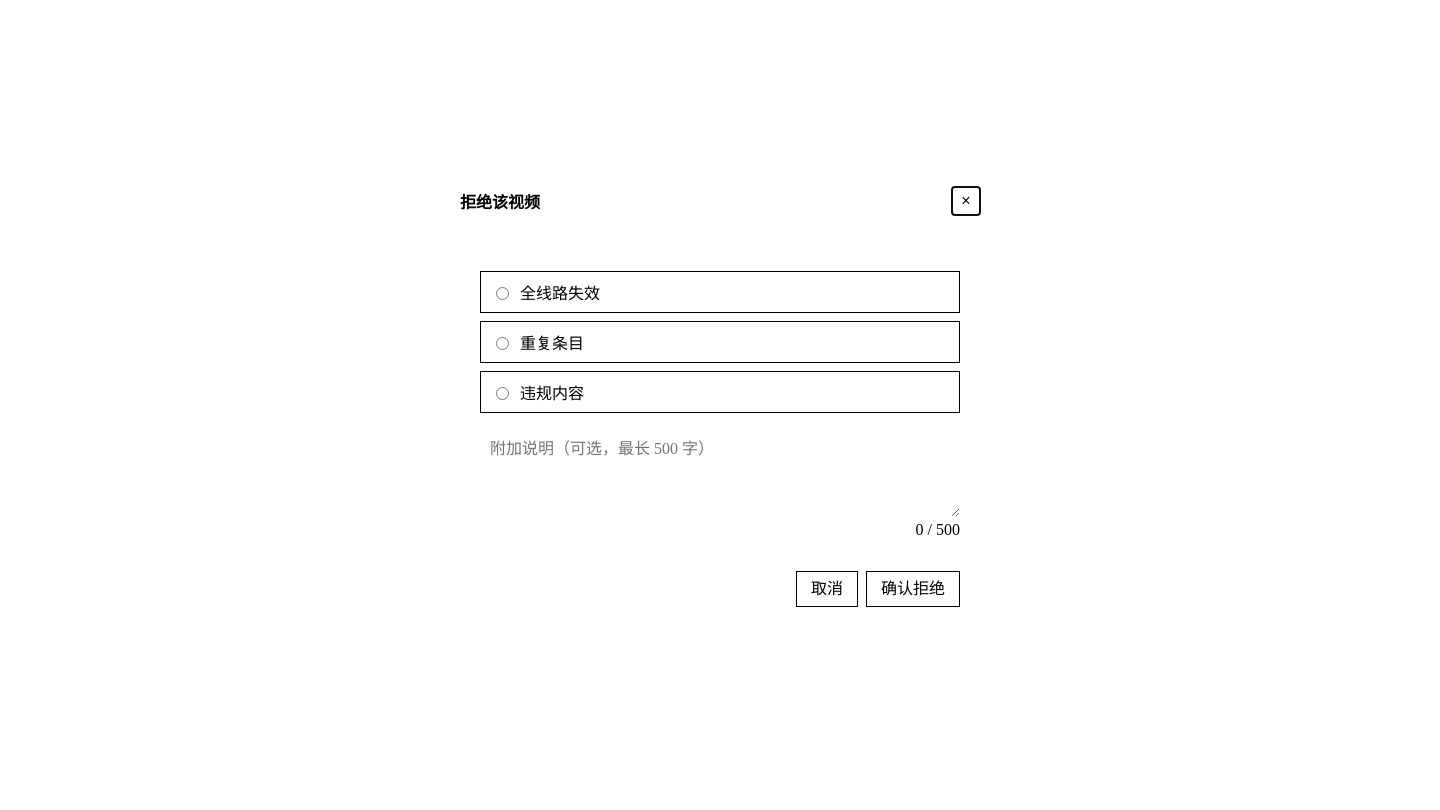
RejectModal — reason textarea › 字数计数显示 N/Max + 输入更新
Type "abc" into the text box with placeholder "附加说明（可选，最长 500 字）" at (720, 473), box [480,429,960,517]
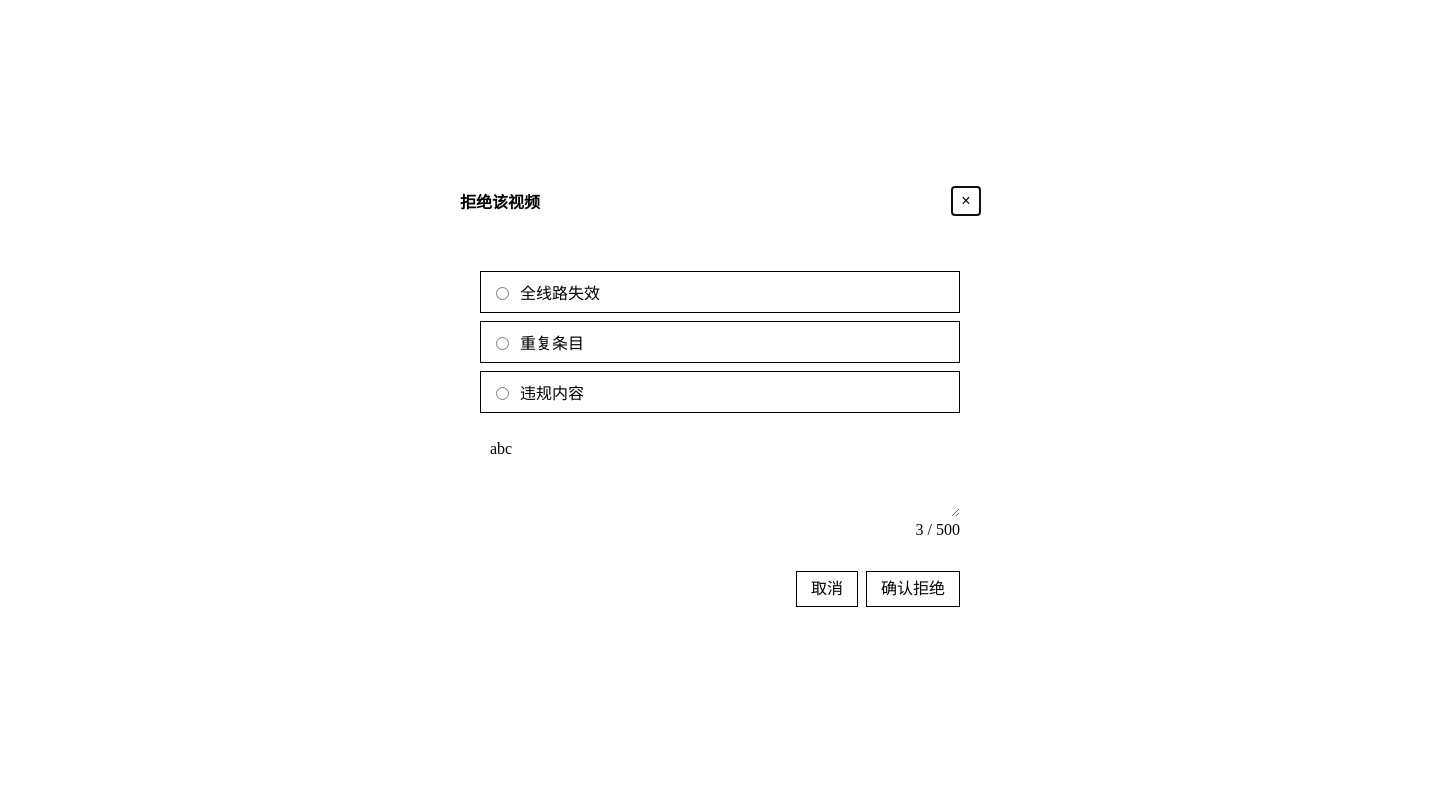
Expected: the text "3 / 500" is shown, [916,521,960,539]
